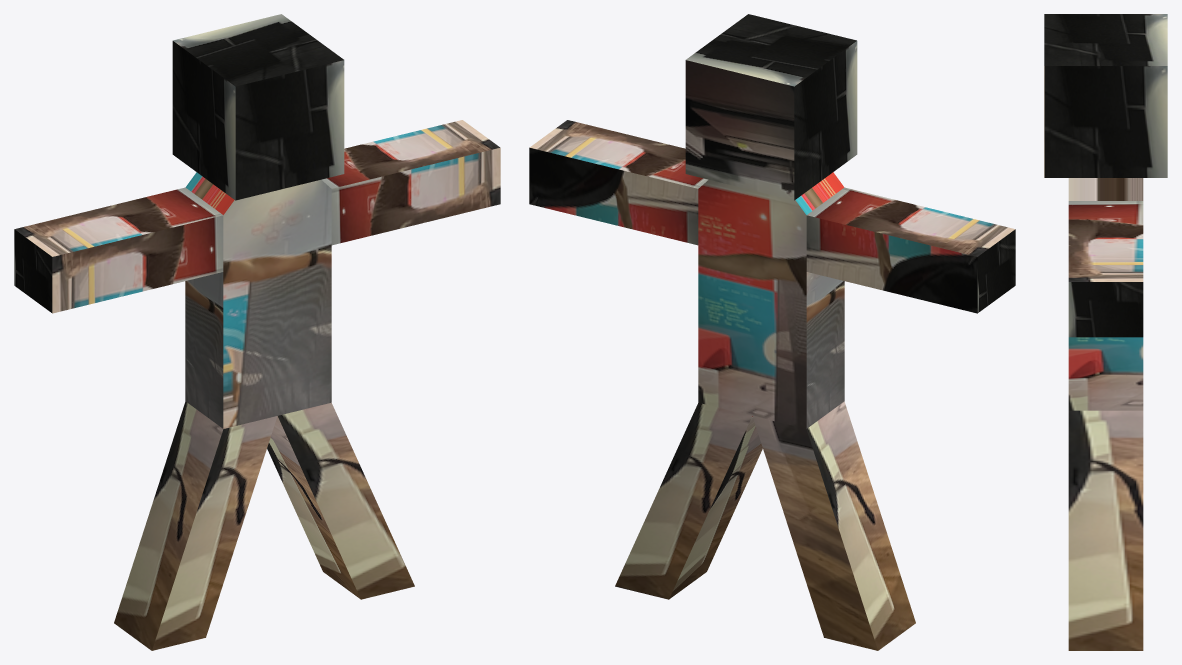
The model's file is baoxiaoling2.obj.
3 renders of one model, left to right at view 1: azimuth 30°, elevation 25°; view 2: azimuth 150°, elevation 25°; view 3: azimuth 270°, elevation 25°, orthographic.
Visible parts, largest first — view 1: Cube; view 2: Cube; view 3: Cube.
Boxes of the visible parts, left/top/right/bottom form: Cube: left=14, top=14, right=500, bottom=650; Cube: left=529, top=14, right=1015, bottom=650; Cube: left=1044, top=14, right=1167, bottom=650.
Bounding box in the file's own units: 4.37 × 5.19 × 1.06.
